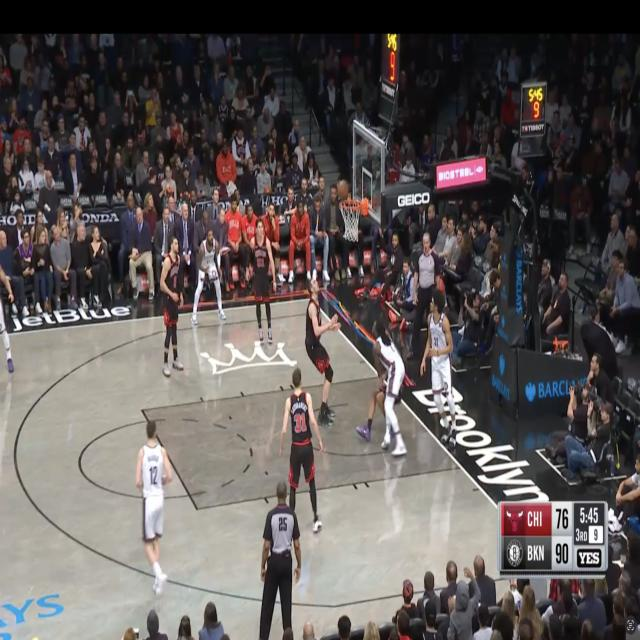foul: (351, 310, 421, 483)
